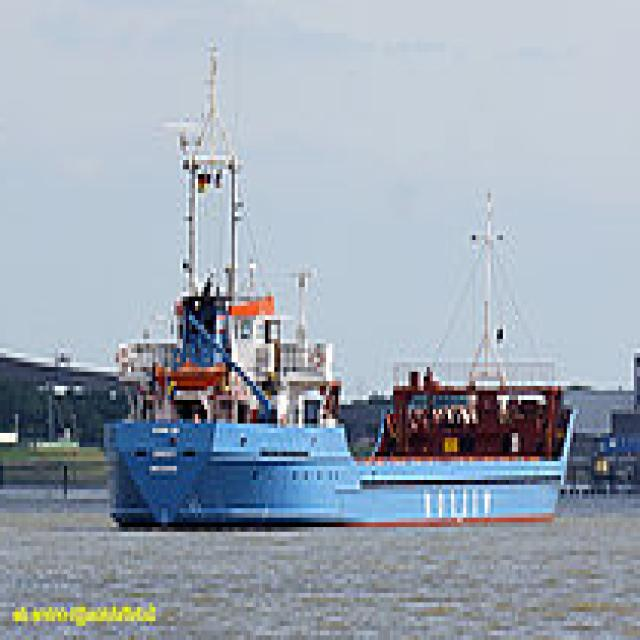Cargo: (101, 259, 585, 527)
